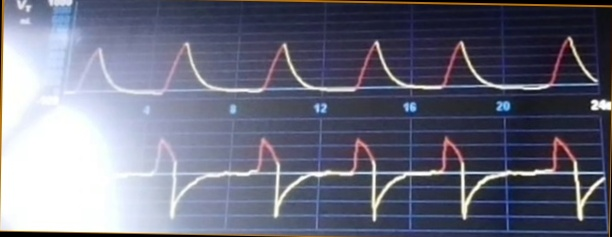Normal Flow: (117, 127, 604, 226)
Normal Volume: (67, 31, 598, 96)
